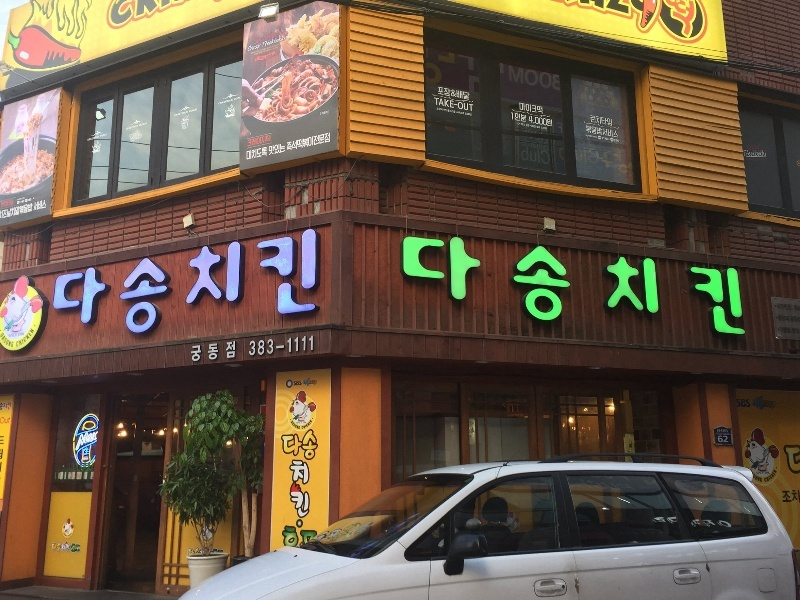text: (561, 235, 577, 330), (193, 229, 208, 324), (209, 229, 224, 324), (225, 229, 240, 324), (241, 229, 256, 324), (257, 229, 272, 324), (273, 229, 288, 324), (289, 229, 304, 324), (417, 235, 432, 330), (433, 235, 448, 330), (449, 235, 464, 330), (465, 235, 480, 330), (481, 235, 496, 330), (497, 235, 512, 330), (513, 235, 528, 330), (529, 235, 544, 330), (545, 235, 560, 330), (609, 252, 624, 343), (625, 252, 640, 343), (641, 252, 656, 343), (657, 252, 672, 343), (673, 252, 688, 343), (689, 252, 704, 343), (705, 252, 720, 343), (721, 252, 736, 343), (305, 229, 319, 324), (402, 235, 416, 330), (65, 250, 80, 338), (81, 250, 96, 338), (97, 250, 112, 338), (113, 250, 128, 338), (129, 250, 144, 338), (145, 250, 160, 338), (161, 250, 176, 338), (737, 252, 749, 343), (289, 458, 304, 518), (54, 250, 64, 338), (433, 49, 448, 90), (673, 1, 688, 40), (465, 55, 479, 94), (289, 429, 304, 461), (305, 429, 320, 461), (113, 1, 128, 32), (129, 1, 144, 32), (145, 1, 160, 32), (161, 1, 176, 32), (609, 146, 624, 176), (785, 445, 800, 475), (321, 515, 336, 545), (337, 515, 352, 545), (353, 515, 368, 545), (305, 458, 312, 518), (513, 65, 528, 91), (529, 65, 544, 91), (289, 524, 304, 550), (305, 524, 320, 550), (257, 334, 272, 359), (273, 334, 288, 359), (289, 334, 304, 359), (81, 428, 96, 453), (193, 340, 208, 364), (209, 340, 224, 364), (663, 1, 672, 40), (689, 1, 698, 40), (17, 328, 32, 351), (593, 1, 608, 24), (609, 1, 624, 24), (625, 1, 640, 24), (529, 145, 544, 167), (449, 49, 457, 90), (578, 1, 592, 24), (289, 131, 304, 152), (305, 131, 320, 152), (225, 340, 237, 364), (17, 202, 33, 220), (577, 147, 592, 166), (605, 252, 608, 343), (1, 202, 16, 220), (305, 334, 315, 359), (433, 97, 448, 113), (449, 97, 464, 113), (529, 137, 544, 153), (3, 332, 16, 350), (281, 429, 288, 461), (177, 1, 184, 32), (785, 490, 800, 504), (321, 131, 331, 152), (257, 32, 272, 46), (529, 101, 543, 116), (593, 125, 608, 139), (257, 43, 272, 57), (273, 142, 286, 158), (427, 49, 432, 90), (273, 33, 285, 50), (257, 134, 271, 148), (34, 198, 48, 212), (529, 115, 544, 128), (459, 55, 464, 94), (190, 229, 192, 324), (769, 469, 779, 488), (593, 147, 603, 166), (545, 65, 552, 91), (281, 524, 288, 550), (753, 398, 768, 410), (593, 115, 608, 127), (1, 448, 16, 460), (602, 146, 608, 176), (689, 518, 704, 530), (705, 518, 720, 530), (369, 515, 375, 545), (177, 250, 179, 338), (257, 146, 268, 162), (520, 145, 528, 167), (249, 334, 256, 359), (262, 33, 272, 50), (721, 518, 735, 530), (292, 417, 304, 431), (1, 198, 16, 209), (225, 95, 240, 106), (1, 402, 16, 413), (246, 146, 256, 162), (305, 417, 315, 433), (513, 112, 527, 123), (545, 145, 552, 167), (609, 125, 620, 139), (129, 121, 144, 131), (177, 107, 192, 117), (518, 101, 528, 116), (657, 515, 672, 525), (465, 97, 474, 113), (552, 74, 560, 92), (737, 399, 752, 408), (529, 126, 544, 135), (529, 136, 544, 145), (17, 197, 32, 206), (451, 89, 464, 99), (247, 134, 256, 148), (753, 149, 767, 158), (97, 132, 108, 143), (438, 86, 448, 98), (4, 401, 16, 411), (259, 52, 272, 61), (33, 328, 38, 351), (521, 137, 528, 153), (273, 43, 281, 57), (52, 543, 64, 552), (84, 447, 96, 456), (1, 417, 16, 424), (456, 89, 464, 102), (545, 115, 553, 128), (508, 65, 512, 91), (87, 132, 96, 143), (469, 426, 480, 435), (273, 32, 280, 46), (249, 43, 256, 57), (756, 475, 768, 483), (753, 144, 762, 154), (625, 146, 628, 176), (586, 125, 592, 139), (743, 149, 752, 158), (248, 43, 256, 53), (545, 137, 550, 153), (193, 547, 201, 557), (296, 519, 304, 529), (465, 89, 471, 102), (789, 316, 800, 323), (293, 380, 304, 387), (217, 95, 224, 106), (764, 469, 768, 488), (769, 400, 777, 409), (775, 303, 784, 311), (785, 303, 794, 311), (436, 107, 448, 113), (753, 157, 767, 162), (466, 112, 480, 117), (561, 146, 565, 163), (755, 471, 768, 476), (531, 124, 544, 129), (721, 435, 729, 443), (776, 314, 784, 322), (268, 142, 272, 158), (791, 327, 800, 334), (7, 332, 16, 339), (521, 126, 528, 135), (650, 515, 656, 525), (673, 515, 679, 525), (310, 380, 320, 386), (17, 197, 32, 201), (17, 332, 25, 339), (469, 421, 480, 426), (469, 434, 480, 439), (721, 429, 730, 435), (321, 110, 330, 116), (257, 43, 262, 53), (193, 107, 198, 117), (747, 144, 752, 154), (97, 428, 99, 453), (614, 139, 624, 144), (190, 340, 192, 364), (778, 326, 784, 334), (785, 326, 791, 334), (609, 115, 613, 127), (301, 417, 304, 433), (516, 122, 528, 126), (641, 1, 643, 24), (65, 543, 70, 552), (545, 136, 550, 145), (286, 131, 288, 152), (253, 32, 256, 46), (601, 136, 608, 142), (785, 314, 790, 322), (188, 547, 192, 557), (456, 111, 464, 116), (536, 125, 544, 130), (764, 400, 768, 409), (305, 380, 311, 386), (557, 122, 560, 134), (545, 126, 549, 135), (745, 157, 752, 162), (449, 109, 456, 114), (585, 134, 592, 139), (321, 429, 322, 461), (428, 97, 432, 105), (296, 421, 304, 425), (125, 121, 128, 131), (145, 121, 148, 131), (783, 445, 784, 475), (319, 515, 320, 545), (782, 490, 784, 504), (521, 123, 528, 127), (61, 543, 64, 552), (525, 136, 528, 145), (593, 134, 598, 139), (716, 429, 720, 435), (449, 86, 451, 98), (590, 115, 592, 127), (561, 122, 563, 134), (433, 97, 436, 105), (510, 112, 512, 123), (797, 160, 800, 167), (174, 107, 176, 117), (575, 147, 576, 166), (33, 197, 35, 206), (559, 146, 560, 163), (718, 435, 720, 443), (769, 471, 772, 476), (541, 126, 544, 131), (545, 126, 548, 131), (525, 124, 528, 128), (241, 95, 242, 106), (273, 52, 274, 61), (305, 421, 307, 425), (303, 380, 304, 386), (319, 110, 320, 116), (609, 136, 610, 142), (447, 109, 448, 114), (529, 124, 530, 128)
